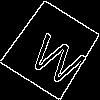W: (26, 24, 93, 89)
